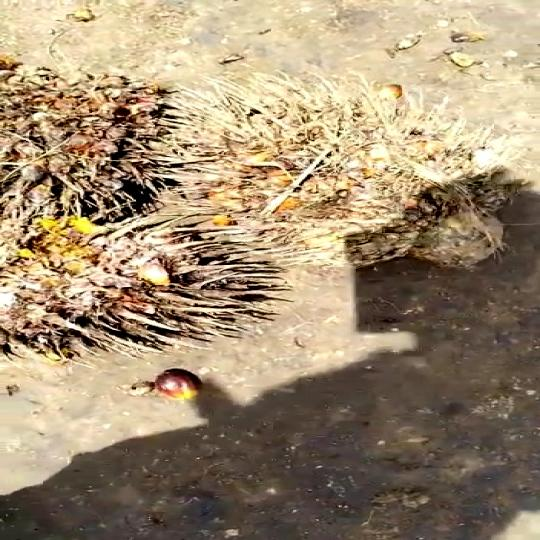terlalu masak: (158, 102, 516, 268)
